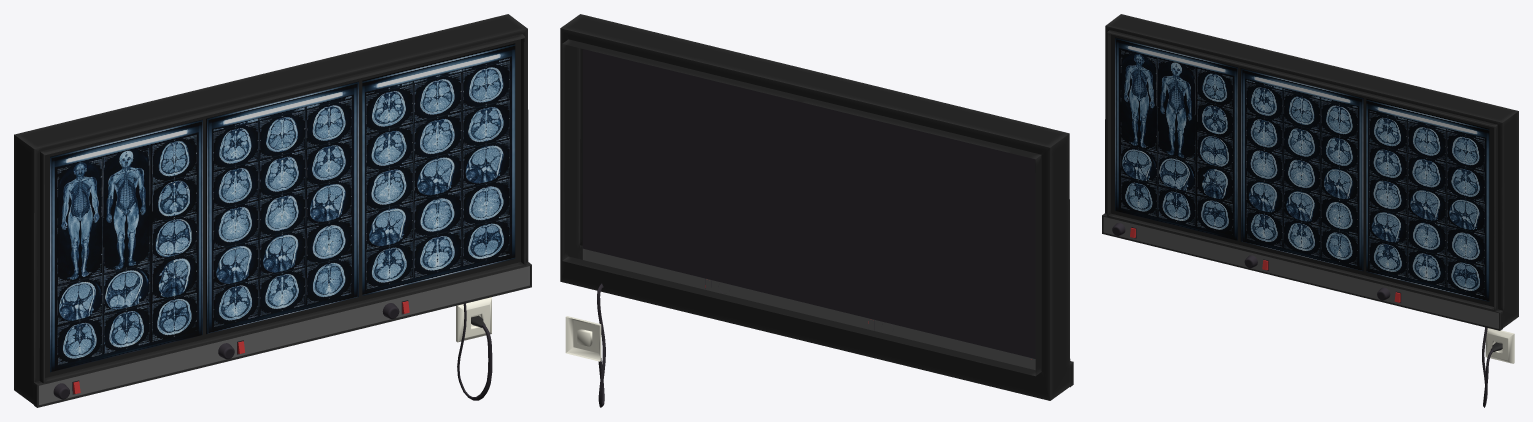
File: X_RayFlimViewer.fbx
The picture shows the model from 3 angles, left to right: view 1: azimuth 30°, elevation 25°; view 2: azimuth 150°, elevation 25°; view 3: azimuth 330°, elevation 25°; orthographic projection. The views are drawn at different scales.
Parts seen in each view (by area): view 1: X_RayFilmViewer; view 2: X_RayFilmViewer; view 3: X_RayFilmViewer.
Boxes of the visible parts, x1=… form: X_RayFilmViewer: x1=14, y1=14, x2=531, y2=407; X_RayFilmViewer: x1=560, y1=14, x2=1073, y2=407; X_RayFilmViewer: x1=1102, y1=14, x2=1518, y2=407.
Bounding box in the file's own units: 128 × 92.58 × 15.73.
